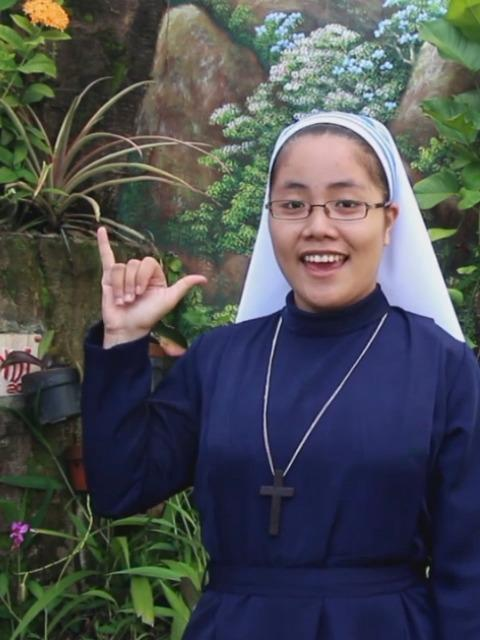Y: (93, 225, 212, 329)
